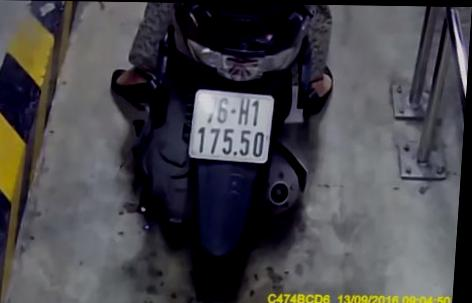License_Plate: (180, 85, 281, 171)
